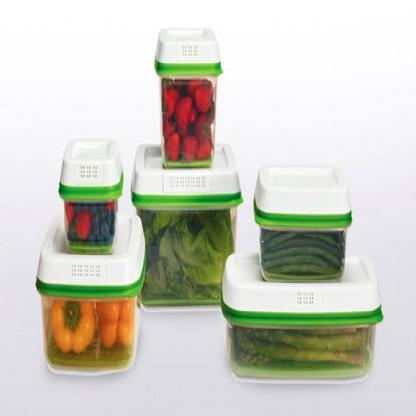plastic_box: (222, 221, 388, 405)
